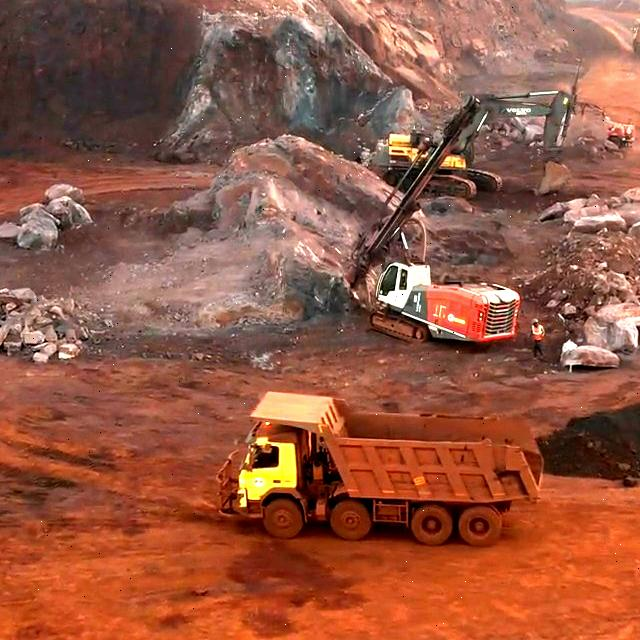Blast rig: (372, 265, 517, 340)
Dumper truck: (256, 416, 509, 533), (630, 22, 640, 61)
Excavator: (380, 130, 480, 199)
person: (533, 317, 546, 348)
